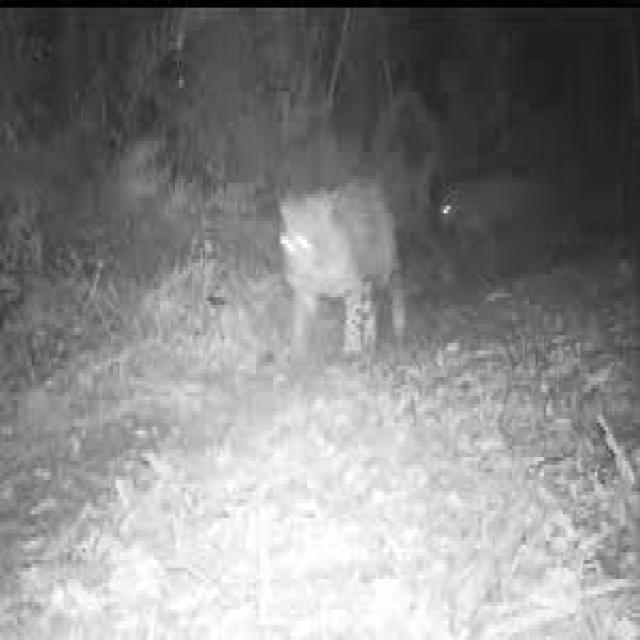Jaguar: (278, 179, 408, 358)
